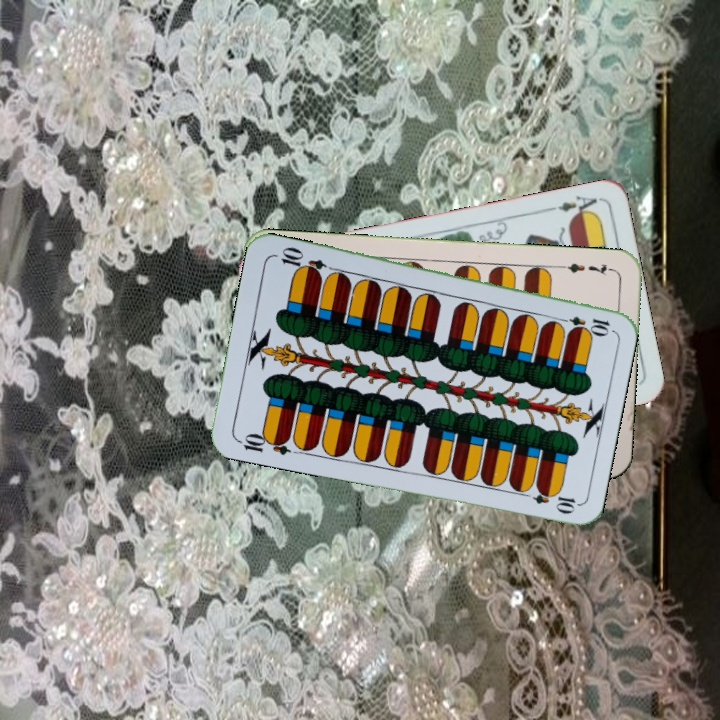E10: (234, 429, 292, 458), (553, 311, 612, 335)
E7: (557, 259, 616, 279)
EA: (543, 191, 600, 220)
